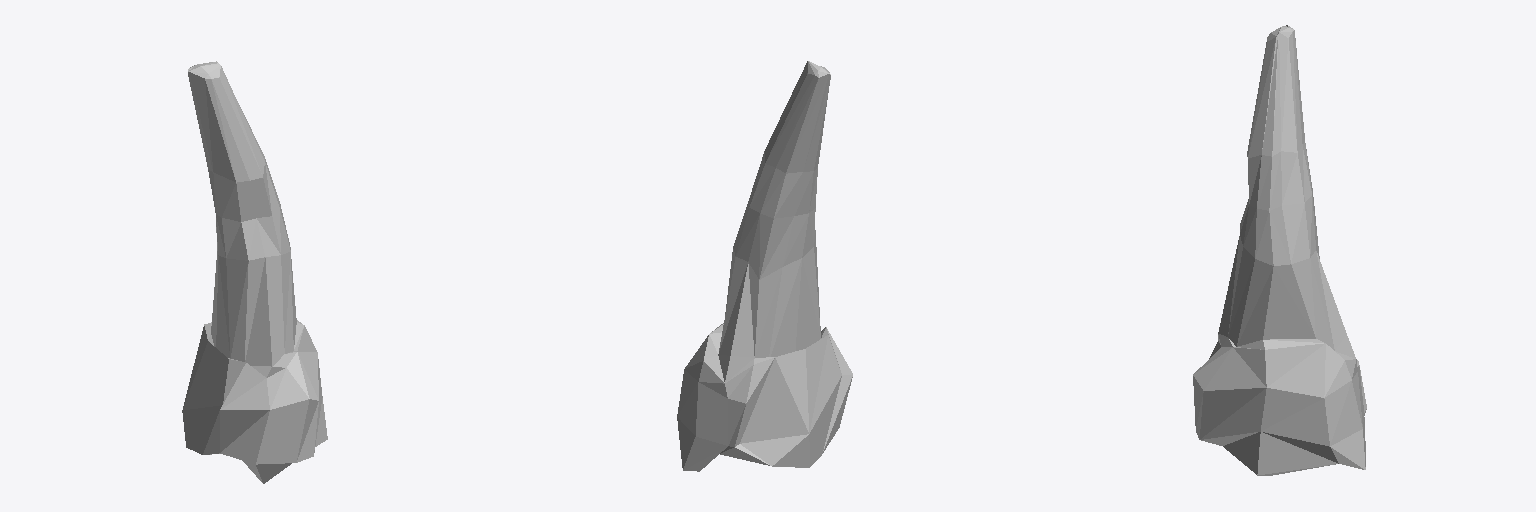
The model's file is Upper_Premolar_Right_01.obj.
The picture shows the model from 3 angles: view 1: azimuth 30°, elevation 25°; view 2: azimuth 150°, elevation 25°; view 3: azimuth 270°, elevation 25°; orthographic projection.
Visible parts, largest first — view 1: Upper_Premolar_Right_01 Upper_Teeth Teeth group1; view 2: Upper_Premolar_Right_01 Upper_Teeth Teeth group1; view 3: Upper_Premolar_Right_01 Upper_Teeth Teeth group1.
Part boxes in pixels (x1,y1,x2,y2): Upper_Premolar_Right_01 Upper_Teeth Teeth group1: (182, 61, 327, 483); Upper_Premolar_Right_01 Upper_Teeth Teeth group1: (677, 61, 852, 471); Upper_Premolar_Right_01 Upper_Teeth Teeth group1: (1193, 25, 1366, 475).
Bounding box in the file's own units: 0.0944 × 0.2801 × 0.108.